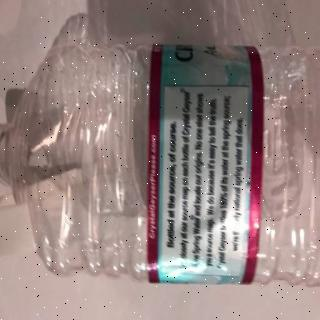Plastic-bottle: (1, 40, 320, 290)
